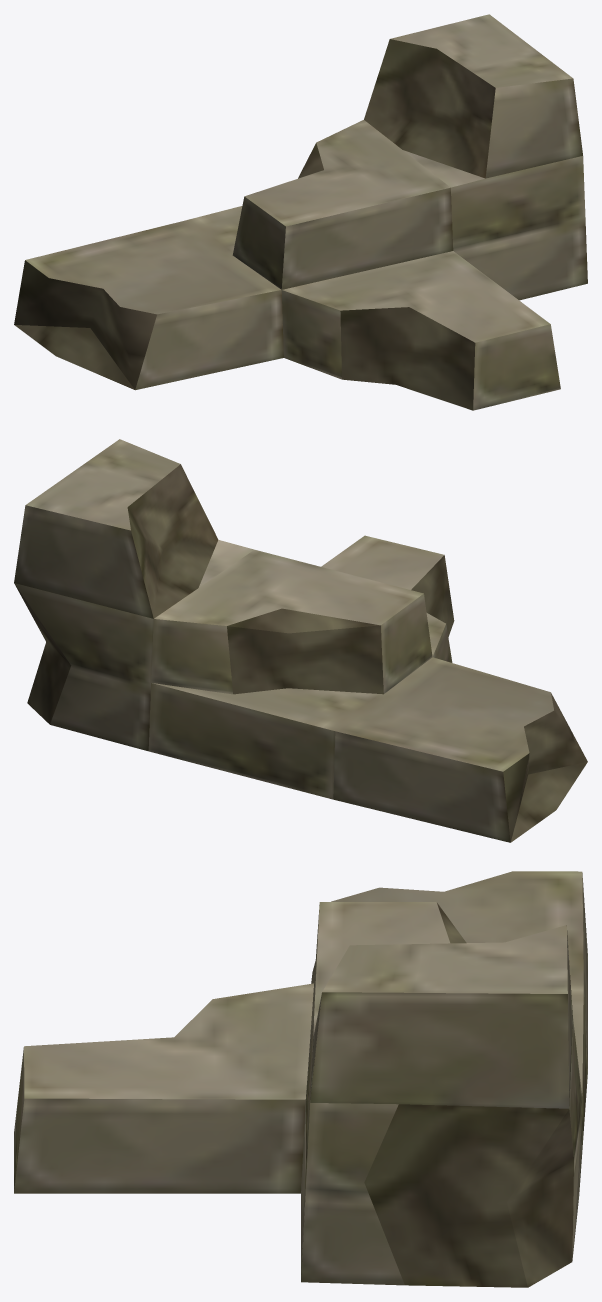
Rendered from DN_tushuguan_qiang_b.FBX.
The picture shows the model from 3 angles, top to bottom: view 1: azimuth 30°, elevation 25°; view 2: azimuth 150°, elevation 25°; view 3: azimuth 270°, elevation 25°; orthographic projection. The views are drawn at different scales.
Parts seen in each view (by area): view 1: DN_tushuguan_qiang_b; view 2: DN_tushuguan_qiang_b; view 3: DN_tushuguan_qiang_b.
Boxes of the visible parts, x1=… form: DN_tushuguan_qiang_b: x1=14, y1=14, x2=587, y2=410; DN_tushuguan_qiang_b: x1=14, y1=439, x2=587, y2=842; DN_tushuguan_qiang_b: x1=14, y1=871, x2=587, y2=1287.
Size of the model in its own units: 170 by 68.16 by 124.
